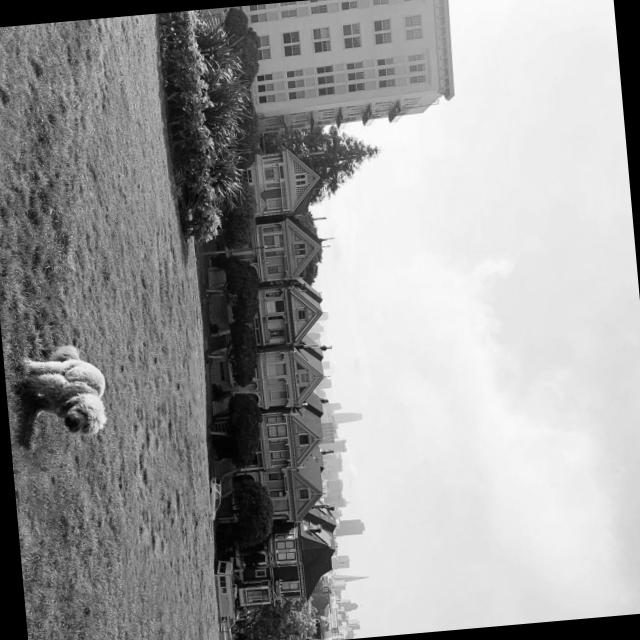squatting: (6, 333, 113, 448)
